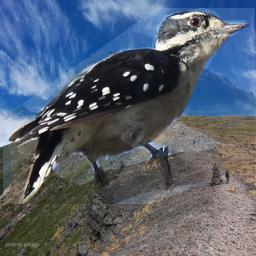Woodpecker: (3, 8, 255, 204)
